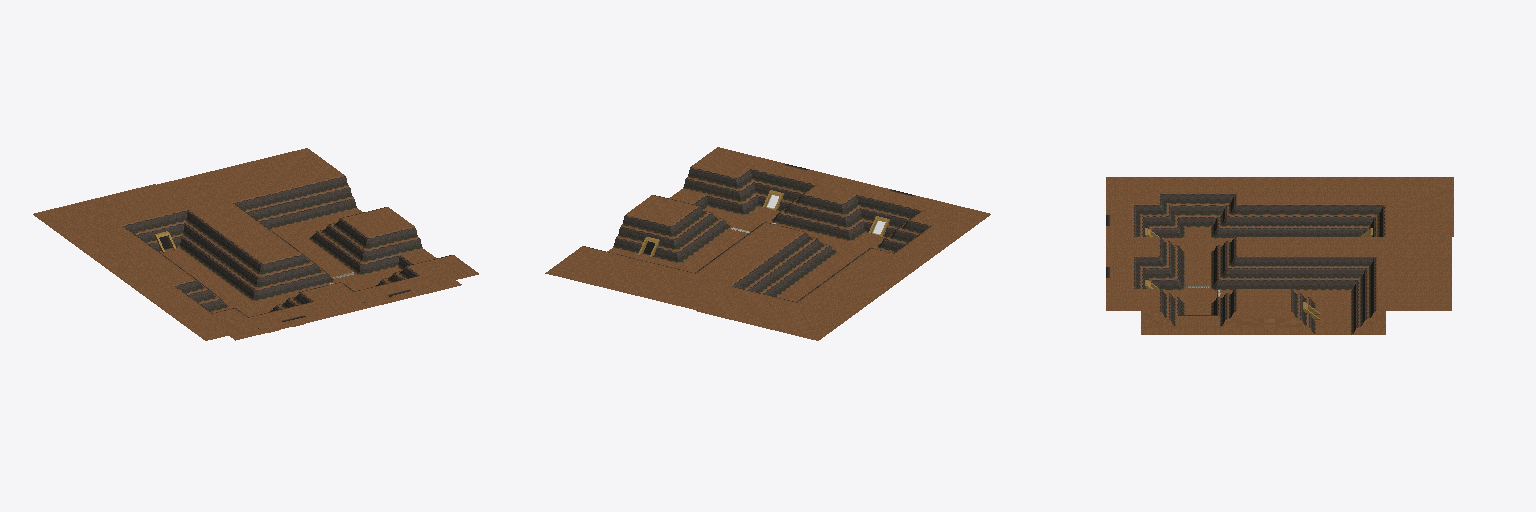
3 views of the same model, side by side, from view 1: azimuth 30°, elevation 25°; view 2: azimuth 150°, elevation 25°; view 3: azimuth 270°, elevation 25° (orthographic).
Parts seen in each view (by area): view 1: polygon0, polygon1, polygon2, polygon5; view 2: polygon0, polygon1, polygon2, polygon5; view 3: polygon0, polygon1, polygon2, polygon5.
Boxes of the visible parts, box(x1,y1,x2,y2) form: polygon0: box(33, 148, 478, 340); polygon1: box(126, 177, 422, 329); polygon2: box(121, 175, 451, 317); polygon5: box(159, 236, 410, 321); polygon0: box(545, 147, 990, 340); polygon1: box(613, 169, 927, 296); polygon2: box(583, 166, 932, 302); polygon5: box(642, 164, 913, 256); polygon0: box(1106, 177, 1453, 334); polygon1: box(1136, 195, 1382, 334); polygon2: box(1132, 193, 1385, 327); polygon5: box(1106, 215, 1131, 277).
Size of the model in its own units: 9.06 by 0.75 by 9.94.
8 materials, 8 textured.